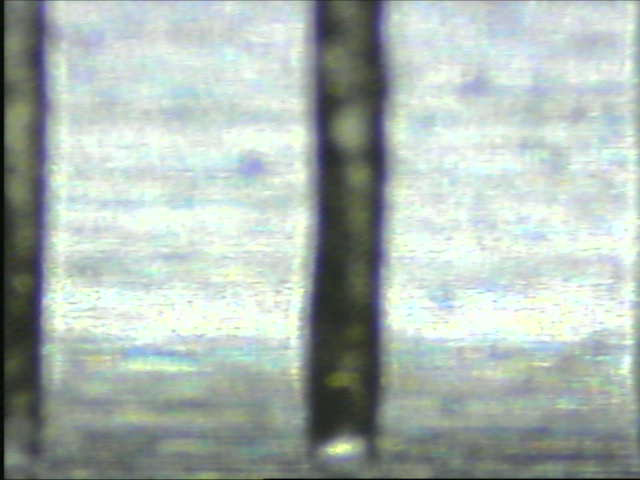line: (301, 1, 396, 469)
